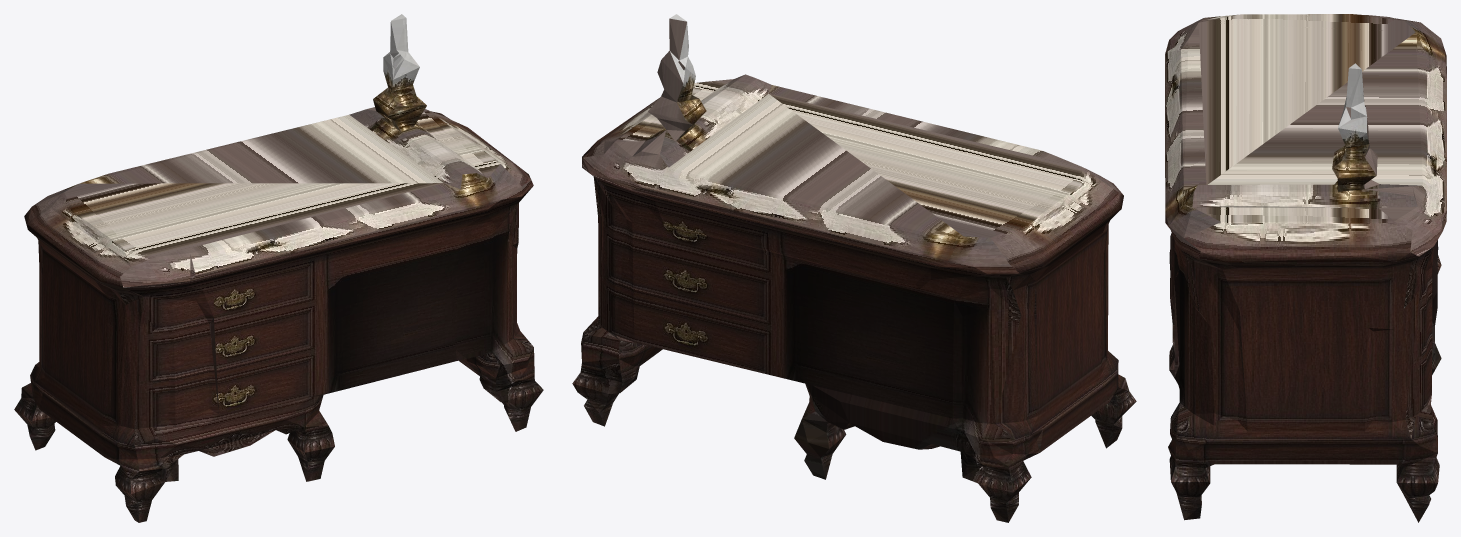
The model's file is desk_high.glb.
3 views of the same model, side by side, from view 1: azimuth 30°, elevation 25°; view 2: azimuth 150°, elevation 25°; view 3: azimuth 270°, elevation 25° (orthographic). The views are drawn at different scales.
Visible parts, largest first — view 1: desk_high; view 2: desk_high; view 3: desk_high.
Part boxes in pixels (bbox=[...]): desk_high: bbox=[14, 14, 543, 522]; desk_high: bbox=[572, 14, 1136, 522]; desk_high: bbox=[1165, 14, 1446, 522].
Size of the model in its own units: 1.39 by 1.14 by 0.6813.
1 material, 1 textured.
